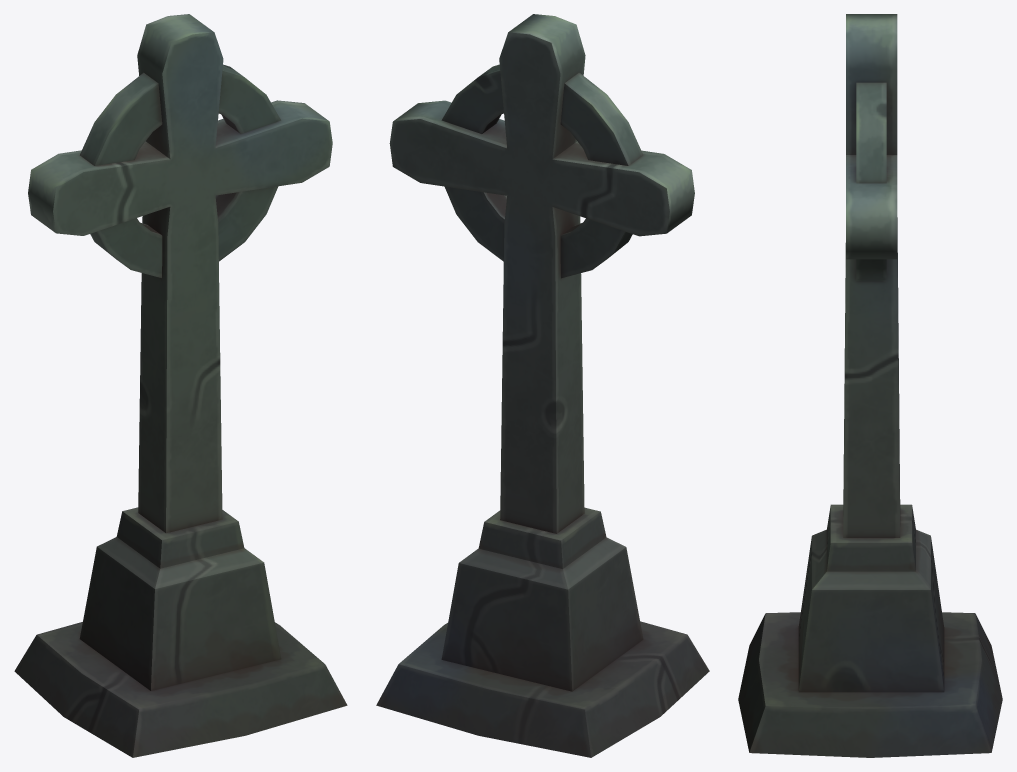
The model's file is grave01.fbx.
3 renders of one model, left to right at view 1: azimuth 30°, elevation 25°; view 2: azimuth 150°, elevation 25°; view 3: azimuth 270°, elevation 25°, orthographic. The views are drawn at different scales.
Parts seen in each view (by area): view 1: grave01; view 2: grave01; view 3: grave01.
Part boxes in pixels (<box>): grave01: <box>14,14,347,757</box>; grave01: <box>376,14,709,757</box>; grave01: <box>738,14,1002,757</box>.
Size of the model in its own units: 108 by 244 by 86.38.
